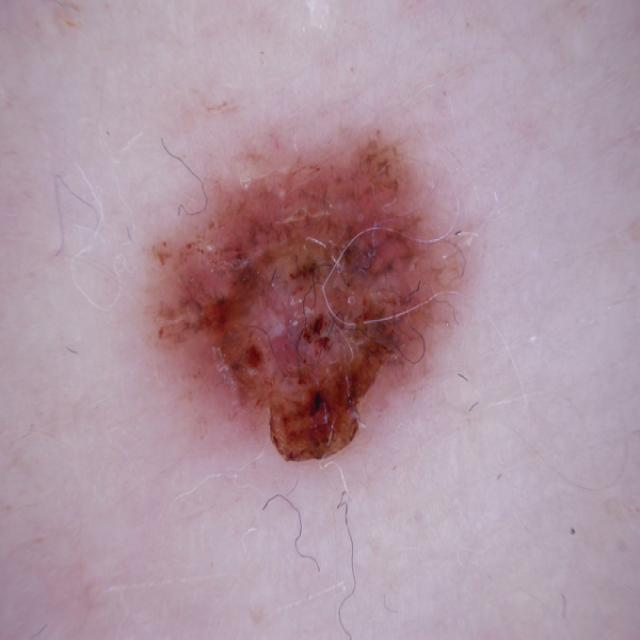NV: (134, 122, 476, 466)
